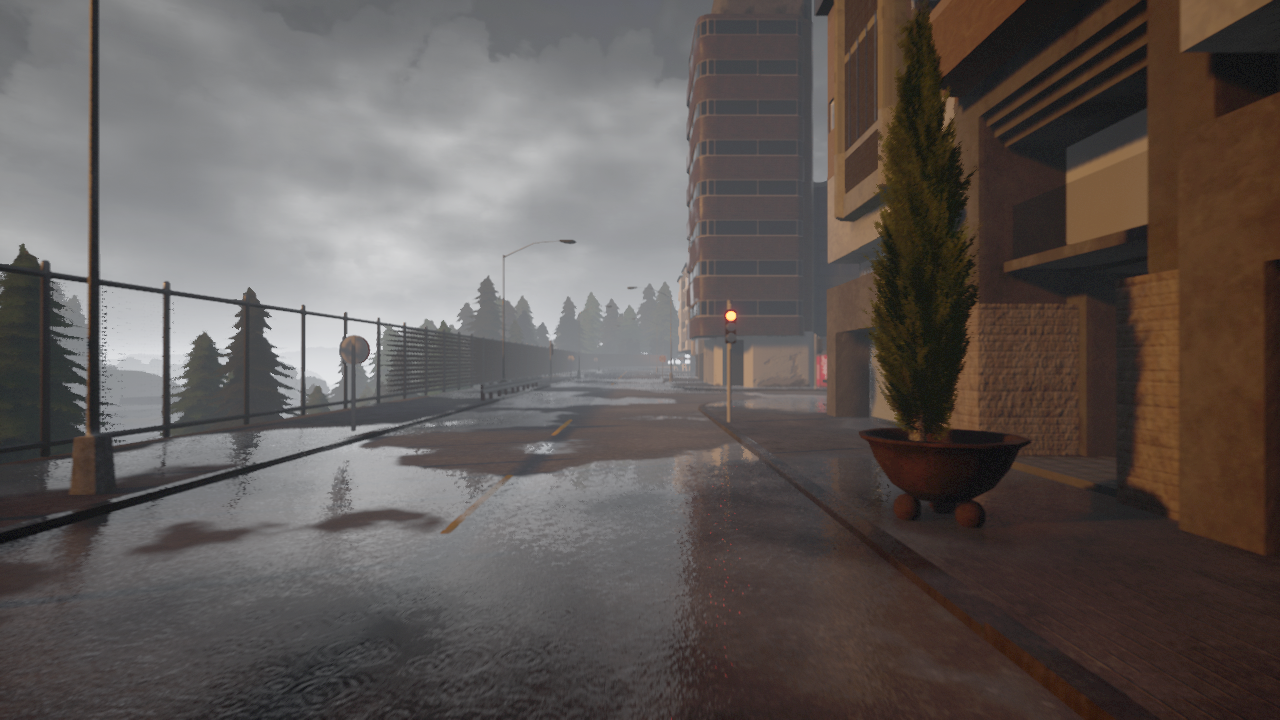red: (723, 309, 737, 345)
